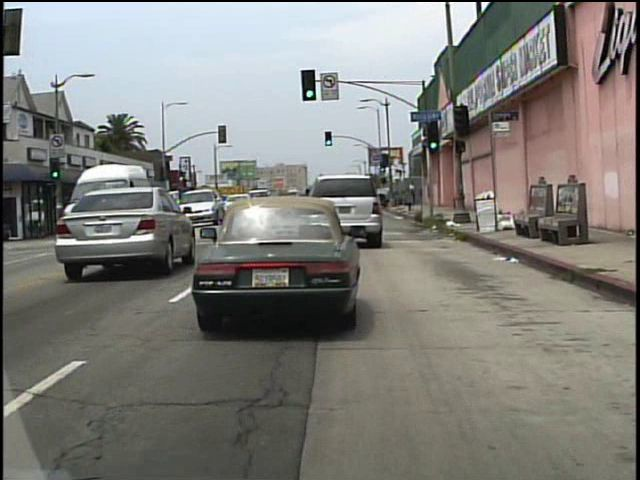person: (409, 180, 418, 203)
